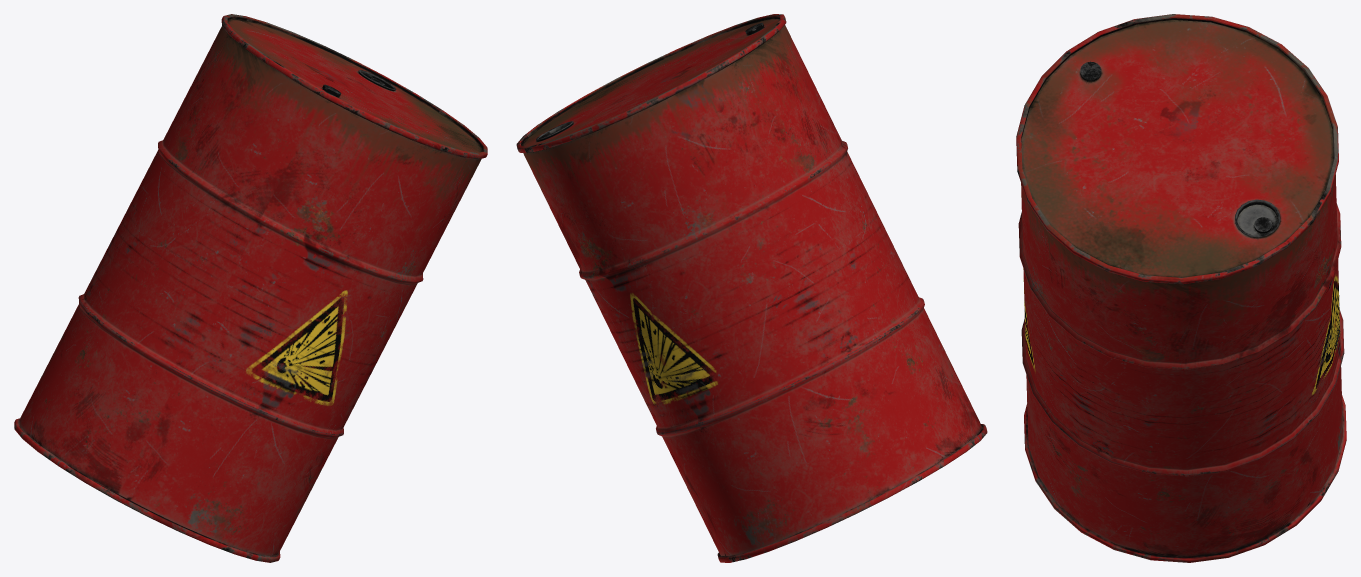
Rendered from Barrel.fbx.
3 views of the same model, side by side, from view 1: azimuth 30°, elevation 25°; view 2: azimuth 150°, elevation 25°; view 3: azimuth 270°, elevation 25° (orthographic). The views are drawn at different scales.
Parts seen in each view (by area): view 1: Barrel_01.001; view 2: Barrel_01.001; view 3: Barrel_01.001.
Part boxes in pixels (x1,y1,x2,y2): Barrel_01.001: [14, 14, 487, 562]; Barrel_01.001: [516, 14, 987, 562]; Barrel_01.001: [1016, 14, 1346, 562].
Bounding box in the file's own units: 187 × 209 × 116.
